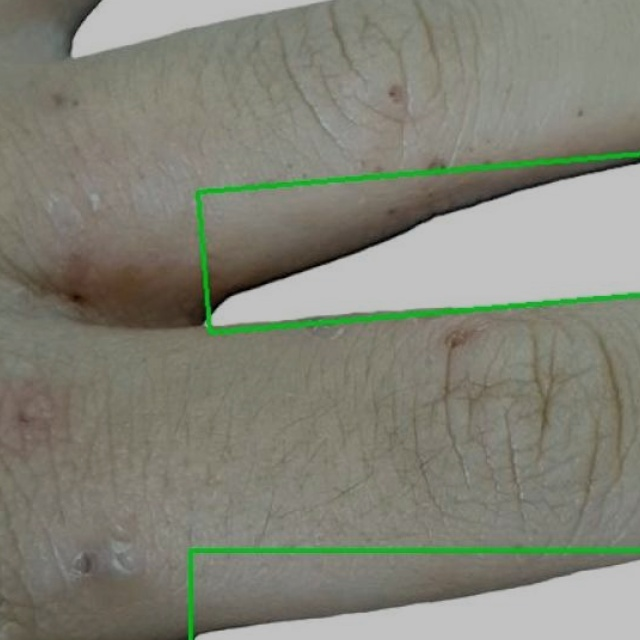Scabies: (198, 155, 639, 332)
